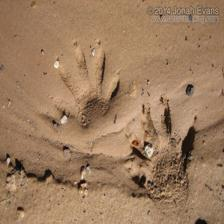raccoon: (118, 93, 204, 209), (46, 34, 128, 143)
